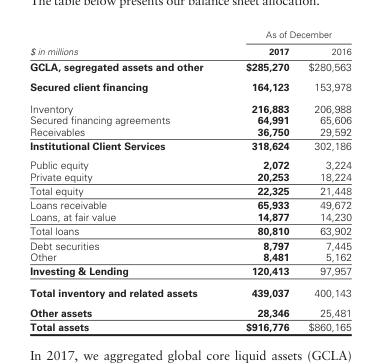table: (29, 28, 350, 332)
table column: (29, 28, 223, 332), (223, 28, 298, 332), (298, 28, 350, 332)
table column header: (29, 28, 350, 58)
table row: (29, 281, 350, 302), (29, 76, 350, 96), (29, 58, 350, 76), (29, 263, 350, 281), (29, 96, 350, 113), (29, 138, 350, 155), (29, 302, 350, 319), (29, 42, 350, 58), (29, 155, 350, 170), (29, 28, 350, 42), (29, 183, 350, 197), (29, 223, 350, 237), (29, 125, 350, 138), (29, 170, 350, 183), (29, 197, 350, 210), (29, 210, 350, 223), (29, 237, 350, 250), (29, 250, 350, 263), (29, 319, 350, 332), (29, 113, 350, 125)
table spanning cell: (29, 28, 223, 58), (223, 28, 350, 42)
